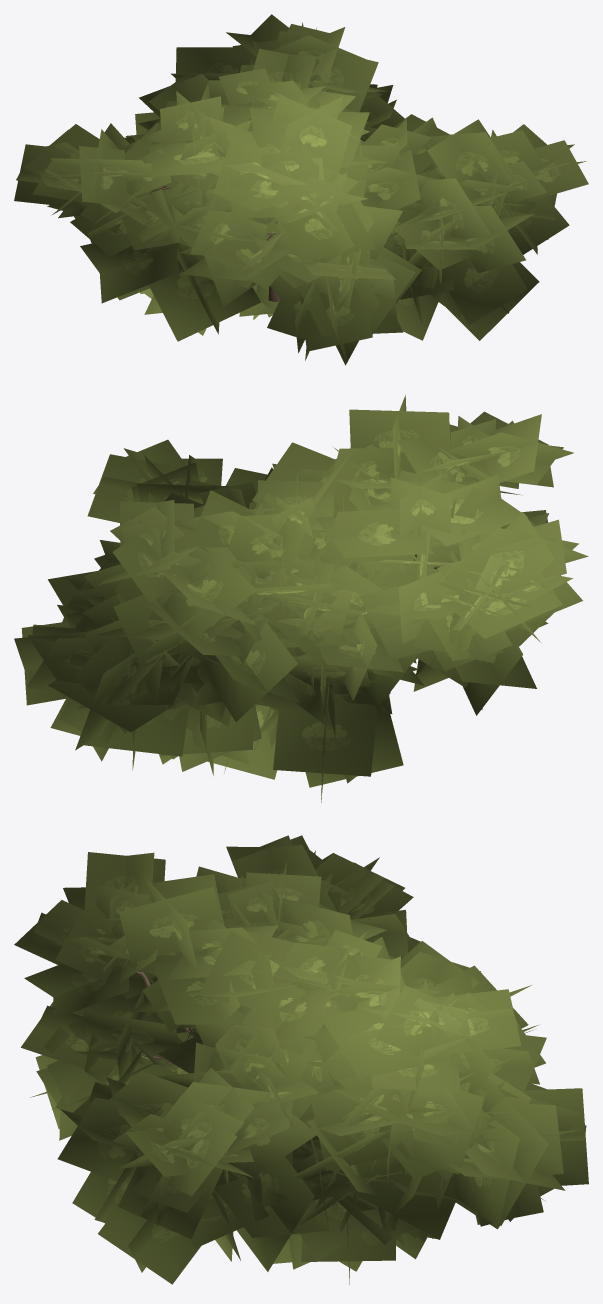
File: mezquite.glb
3 views of the same model, one above another, from view 1: azimuth 30°, elevation 25°; view 2: azimuth 150°, elevation 25°; view 3: azimuth 270°, elevation 25° (orthographic). The views are drawn at different scales.
Visible parts, largest first — view 1: mezquite; view 2: mezquite; view 3: mezquite.
Part boxes in pixels (x1,y1,x2,y2): mezquite: (14, 14, 588, 365); mezquite: (14, 395, 588, 802); mezquite: (14, 835, 588, 1284).
Bounding box in the file's own units: 10.56 × 6 × 9.48.
2 materials, 1 textured.
